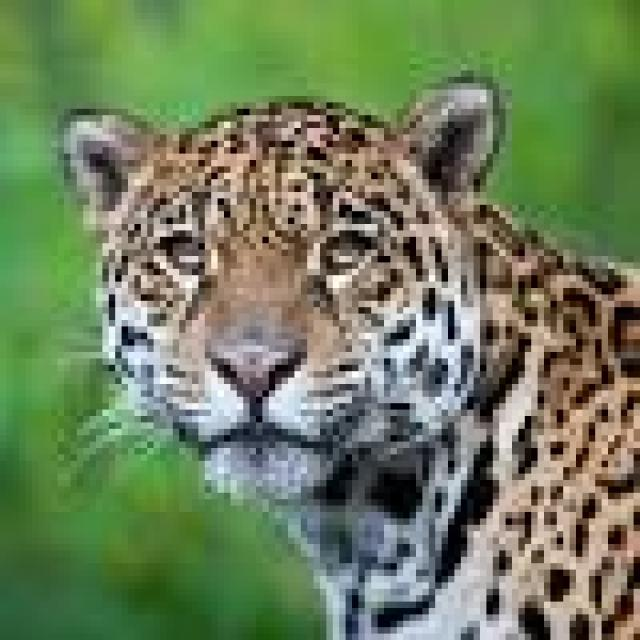Jaguar: (45, 83, 640, 634)
